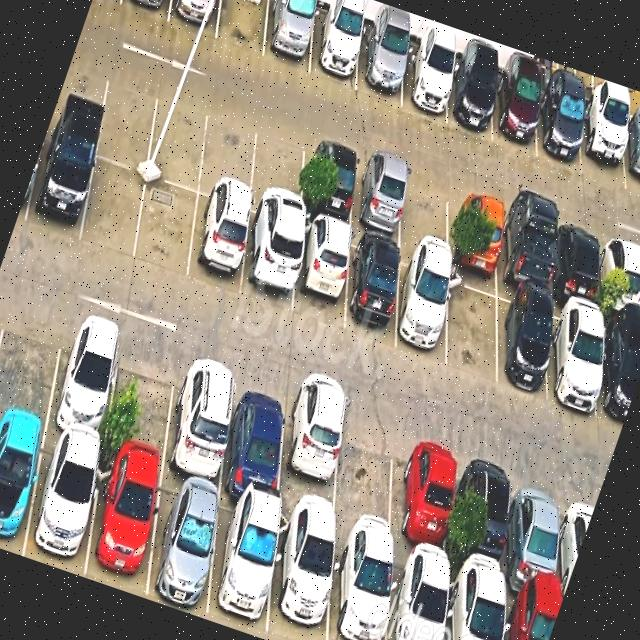empty: (104, 331, 178, 471), (335, 410, 402, 549), (0, 293, 66, 427), (278, 392, 342, 530), (146, 84, 211, 192), (80, 157, 146, 260), (95, 66, 159, 172), (134, 176, 198, 281), (248, 118, 306, 227), (198, 102, 257, 209), (446, 269, 496, 383), (401, 166, 450, 256), (215, 0, 268, 57)
occupied: (24, 431, 100, 574), (45, 310, 122, 449), (146, 472, 219, 616), (206, 494, 278, 640), (86, 452, 159, 595), (163, 352, 235, 490), (220, 371, 288, 507), (393, 428, 454, 568), (267, 513, 333, 640), (457, 449, 514, 586), (24, 134, 96, 242), (507, 465, 559, 602), (328, 535, 391, 640), (292, 217, 350, 330), (187, 194, 248, 297), (343, 233, 399, 345), (0, 417, 45, 555), (547, 297, 599, 416), (395, 250, 447, 366), (240, 214, 297, 315), (497, 284, 547, 395), (387, 551, 446, 640), (301, 135, 357, 228), (599, 313, 640, 430), (500, 200, 550, 295), (353, 152, 404, 242), (451, 184, 500, 276), (309, 8, 361, 90), (446, 569, 504, 640), (492, 70, 539, 156), (536, 84, 581, 173), (580, 101, 625, 189), (446, 58, 494, 140), (556, 216, 598, 306), (263, 0, 314, 74), (401, 42, 447, 123), (356, 28, 403, 104), (600, 230, 640, 319), (503, 586, 561, 640), (168, 0, 220, 38), (621, 114, 640, 195), (120, 0, 171, 21)
